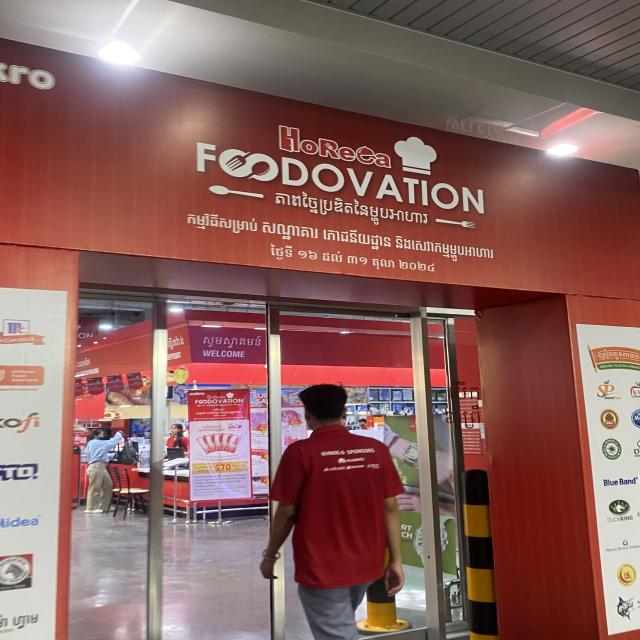3: (186, 209, 501, 266)
5: (263, 241, 446, 278)
Yolov11_80vkh: (270, 187, 435, 234), (201, 334, 268, 349)
